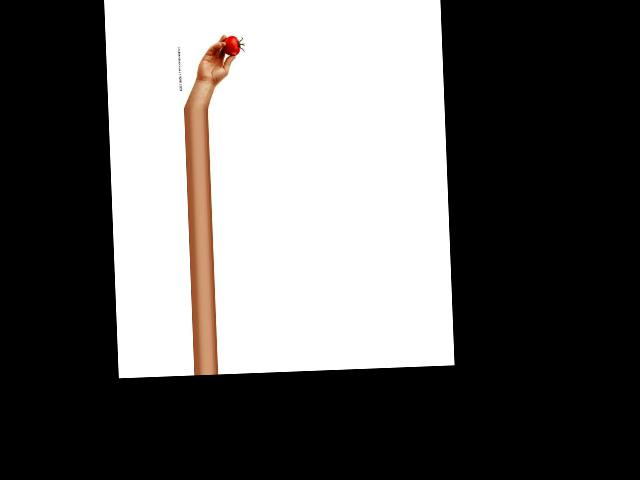tomato: (221, 36, 239, 56)
